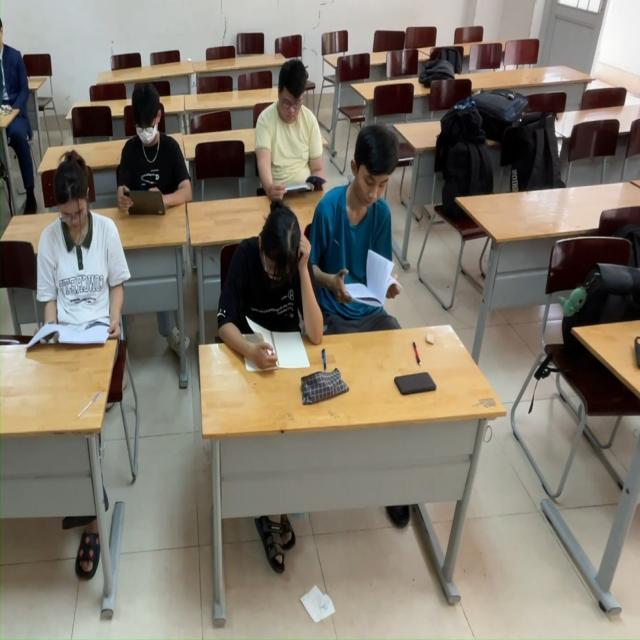read: (8, 147, 112, 389), (323, 135, 425, 331), (215, 201, 315, 375), (244, 66, 336, 203), (122, 94, 189, 221)
